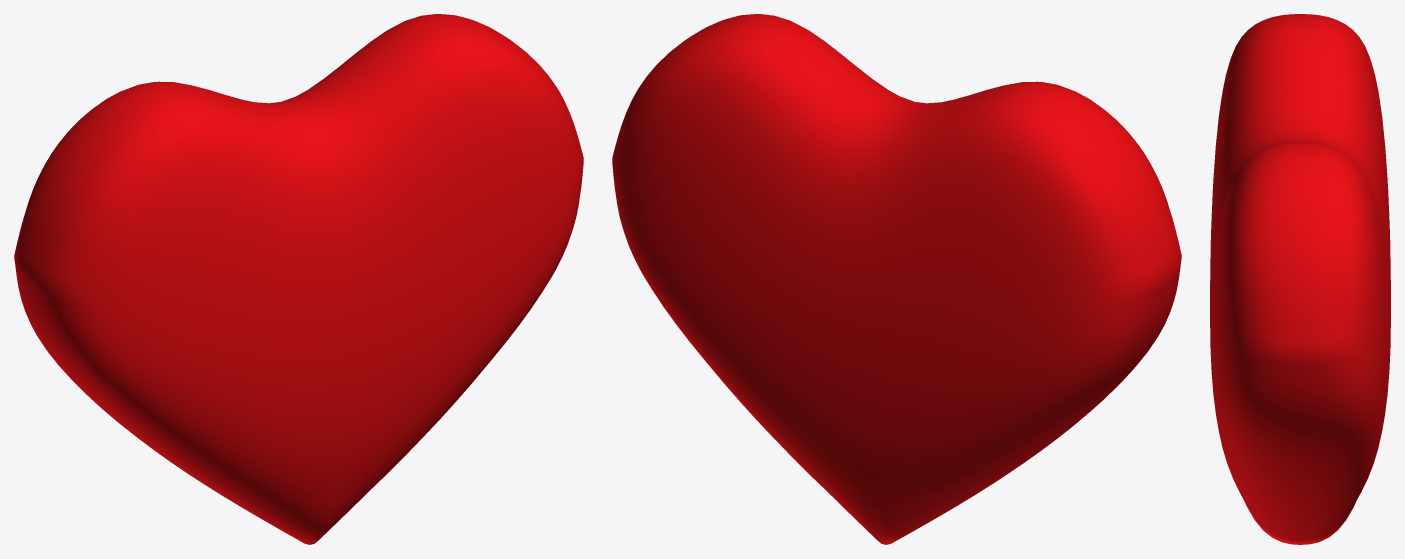
File: heart2.glb
The picture shows the model from 3 angles, left to right: view 1: azimuth 30°, elevation 25°; view 2: azimuth 150°, elevation 25°; view 3: azimuth 270°, elevation 25°; orthographic projection. The views are drawn at different scales.
Visible parts, largest first — view 1: Cube; view 2: Cube; view 3: Cube.
Boxes of the visible parts, box(x1,y1,x2,y2) form: Cube: box(14, 14, 583, 544); Cube: box(612, 14, 1181, 544); Cube: box(1210, 14, 1390, 544).
Bounding box in the file's own units: 2.11 × 1.8 × 0.6429.
